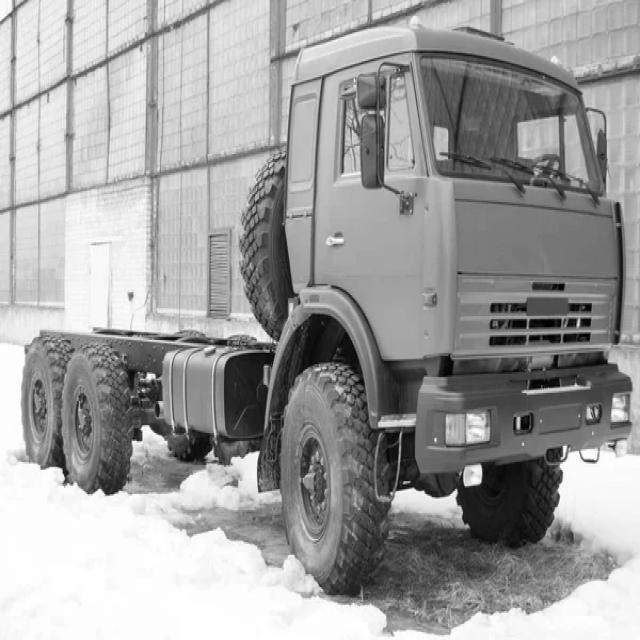Truck: (22, 25, 632, 592)
